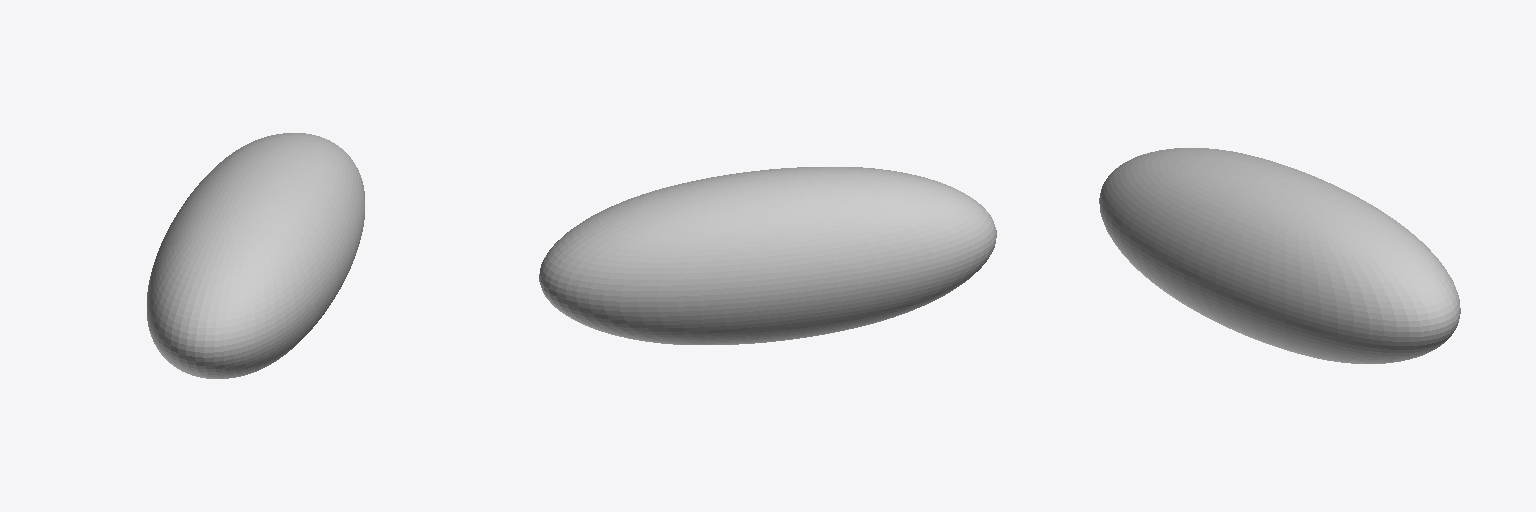
File: nudo2-3.obj
The picture shows the model from 3 angles: view 1: azimuth 30°, elevation 25°; view 2: azimuth 150°, elevation 25°; view 3: azimuth 270°, elevation 25°; orthographic projection.
Visible parts, largest first — view 1: nudo2_3_Mesh; view 2: nudo2_3_Mesh; view 3: nudo2_3_Mesh.
Boxes of the visible parts, <box> form: nudo2_3_Mesh: <box>147,133,364,378</box>; nudo2_3_Mesh: <box>539,167,996,344</box>; nudo2_3_Mesh: <box>1099,148,1460,363</box>.
Size of the model in its own units: 0.8203 by 0.3825 by 0.8203.